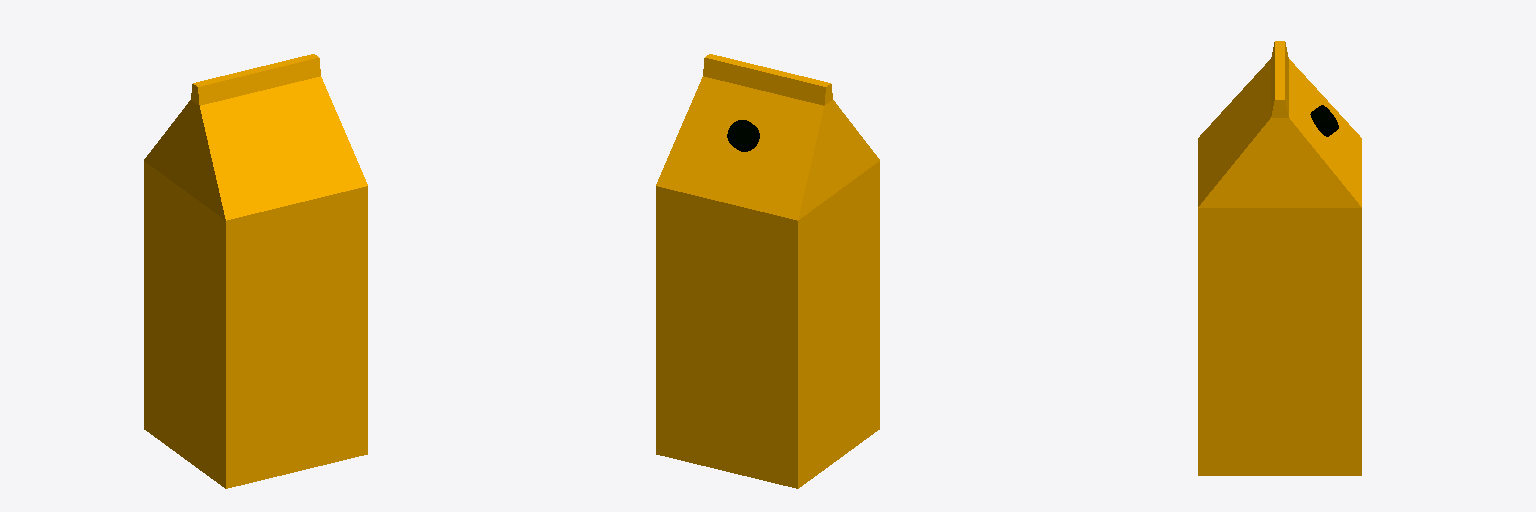
The model's file is juiceCarton_OBJ.obj.
3 views of the same model, side by side, from view 1: azimuth 30°, elevation 25°; view 2: azimuth 150°, elevation 25°; view 3: azimuth 270°, elevation 25° (orthographic).
Visible parts, largest first — view 1: pCube1; view 2: pCube1, pCylinder1; view 3: pCube1, pCylinder1.
Boxes of the visible parts, box(x1,y1,x2,y2) form: pCube1: box(144, 54, 367, 488); pCube1: box(656, 54, 879, 488); pCylinder1: box(727, 120, 759, 151); pCube1: box(1198, 41, 1361, 475); pCylinder1: box(1310, 105, 1338, 136).
Bounding box in the file's own units: 1 × 2.49 × 1.